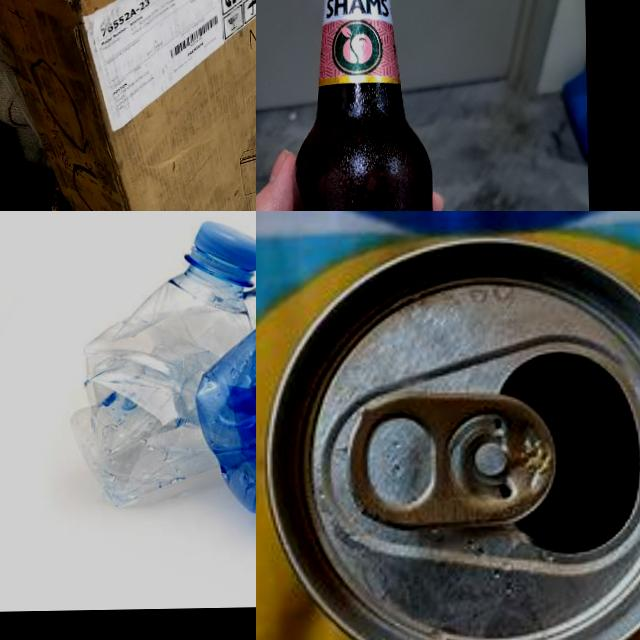aba de lata: (345, 388, 560, 531)
garrafa de vidro: (289, 0, 442, 211)
garrafa plástica: (69, 276, 256, 508), (193, 302, 256, 539)
lata: (258, 235, 640, 640)
papelão: (0, 0, 256, 211)
tampa plástica: (192, 216, 256, 271)
